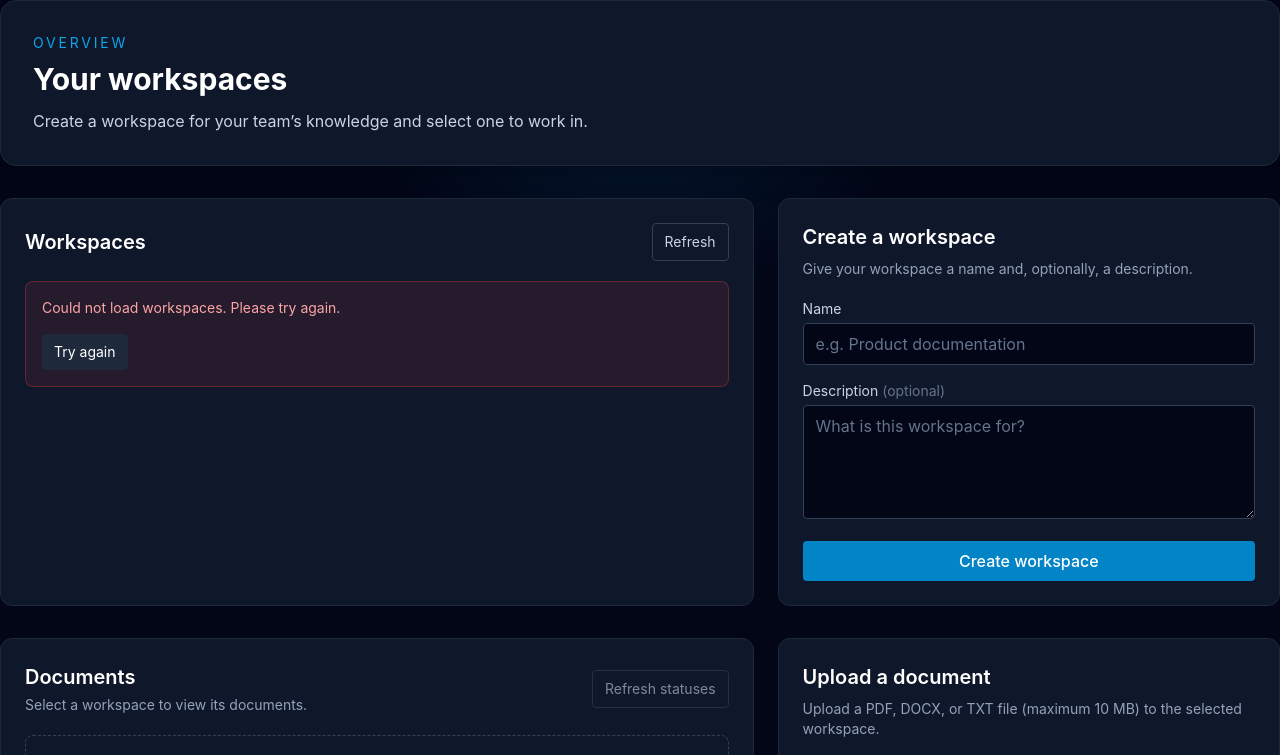
Test: DashboardPage › shows a load error and can retry
expect the message shows "Could not load workspaces": met, box [42,299,340,316]
Click the button "Try again": (85, 352) [42,334,128,370]
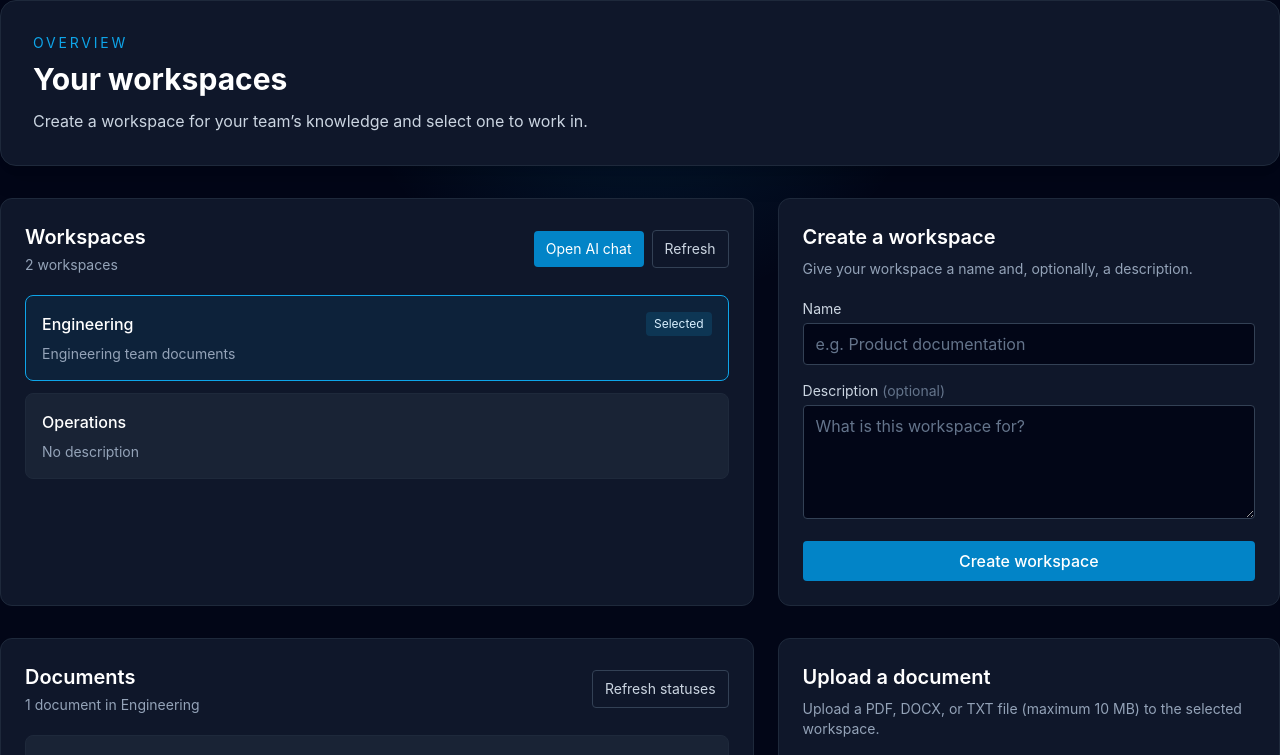
expect the button "Engineering Selected Engineering team documents" is shown: met, box [25,295,729,381]
